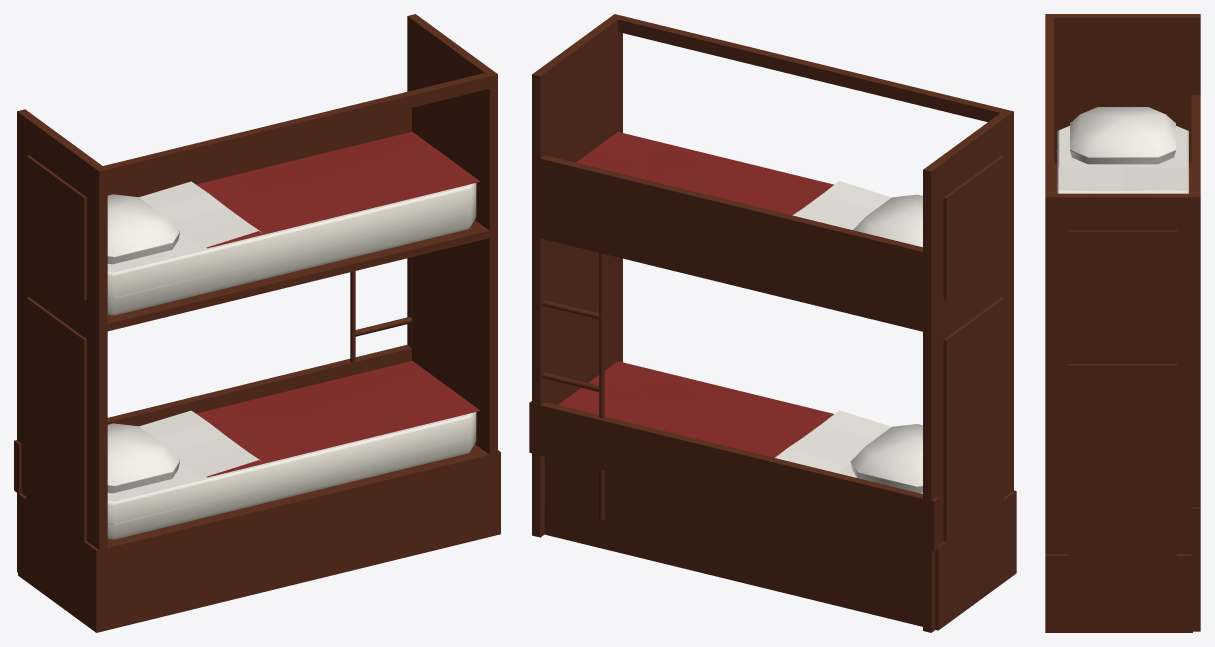
File: parametric-sized-berth-double-l170w60-2nd.glb
The picture shows the model from 3 angles, left to right: view 1: azimuth 30°, elevation 25°; view 2: azimuth 150°, elevation 25°; view 3: azimuth 270°, elevation 25°; orthographic projection. The views are drawn at different scales.
Visible parts, largest first — view 1: parametric-sized-berth-double-l170w60-2nd; view 2: parametric-sized-berth-double-l170w60-2nd; view 3: parametric-sized-berth-double-l170w60-2nd.
Boxes of the visible parts, <box> form: parametric-sized-berth-double-l170w60-2nd: <box>14,14,500,632</box>; parametric-sized-berth-double-l170w60-2nd: <box>529,14,1016,632</box>; parametric-sized-berth-double-l170w60-2nd: <box>1045,14,1200,632</box>.
Size of the model in its own units: 1.7 by 1.85 by 0.6.
